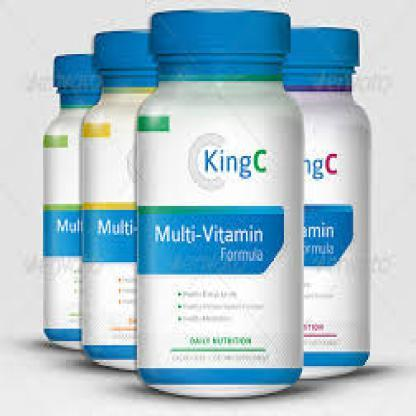jar: (137, 11, 302, 396)
